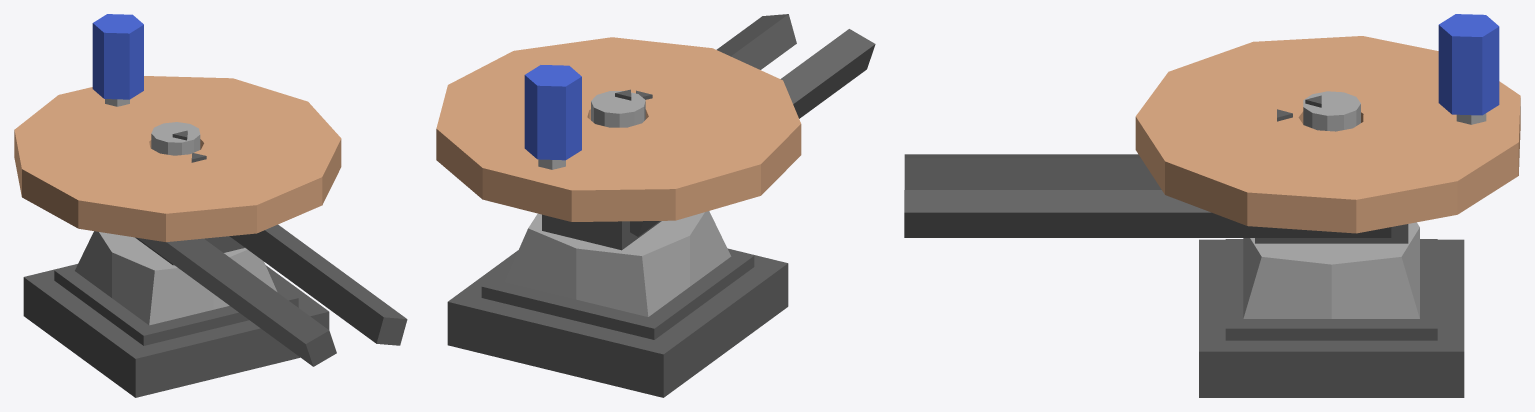
File: Wind Up Gun Mesh.fbx
The picture shows the model from 3 angles, left to right: view 1: azimuth 30°, elevation 25°; view 2: azimuth 150°, elevation 25°; view 3: azimuth 270°, elevation 25°; orthographic projection. The views are drawn at different scales.
Parts seen in each view (by area): view 1: Top, Bottom, Main Right, Main Left, Handle, Marker, Main; view 2: Top, Bottom, Handle, Main Right, Main Left, Main, Marker; view 3: Top, Bottom, Main Left, Main Right, Handle, Marker, Main.
Boxes of the visible parts, x1,y1,x2,y2 form: Top: [14, 76, 341, 242]; Bottom: [23, 231, 329, 397]; Main Right: [137, 238, 336, 366]; Main Left: [229, 224, 407, 345]; Handle: [92, 14, 143, 99]; Marker: [151, 122, 200, 155]; Main: [135, 236, 244, 265]; Top: [436, 37, 801, 221]; Bottom: [447, 211, 788, 397]; Handle: [524, 65, 581, 160]; Main Right: [630, 29, 875, 236]; Main Left: [716, 14, 796, 69]; Main: [542, 214, 661, 250]; Marker: [591, 89, 645, 127]; Top: [1135, 36, 1520, 233]; Bottom: [1199, 222, 1464, 397]; Main Left: [904, 190, 1391, 237]; Main Right: [904, 154, 1161, 189]; Handle: [1438, 14, 1499, 115]; Marker: [1303, 91, 1360, 131]; Main: [1255, 224, 1408, 243].
Bounding box in the file's own units: 146 × 132 × 232.
